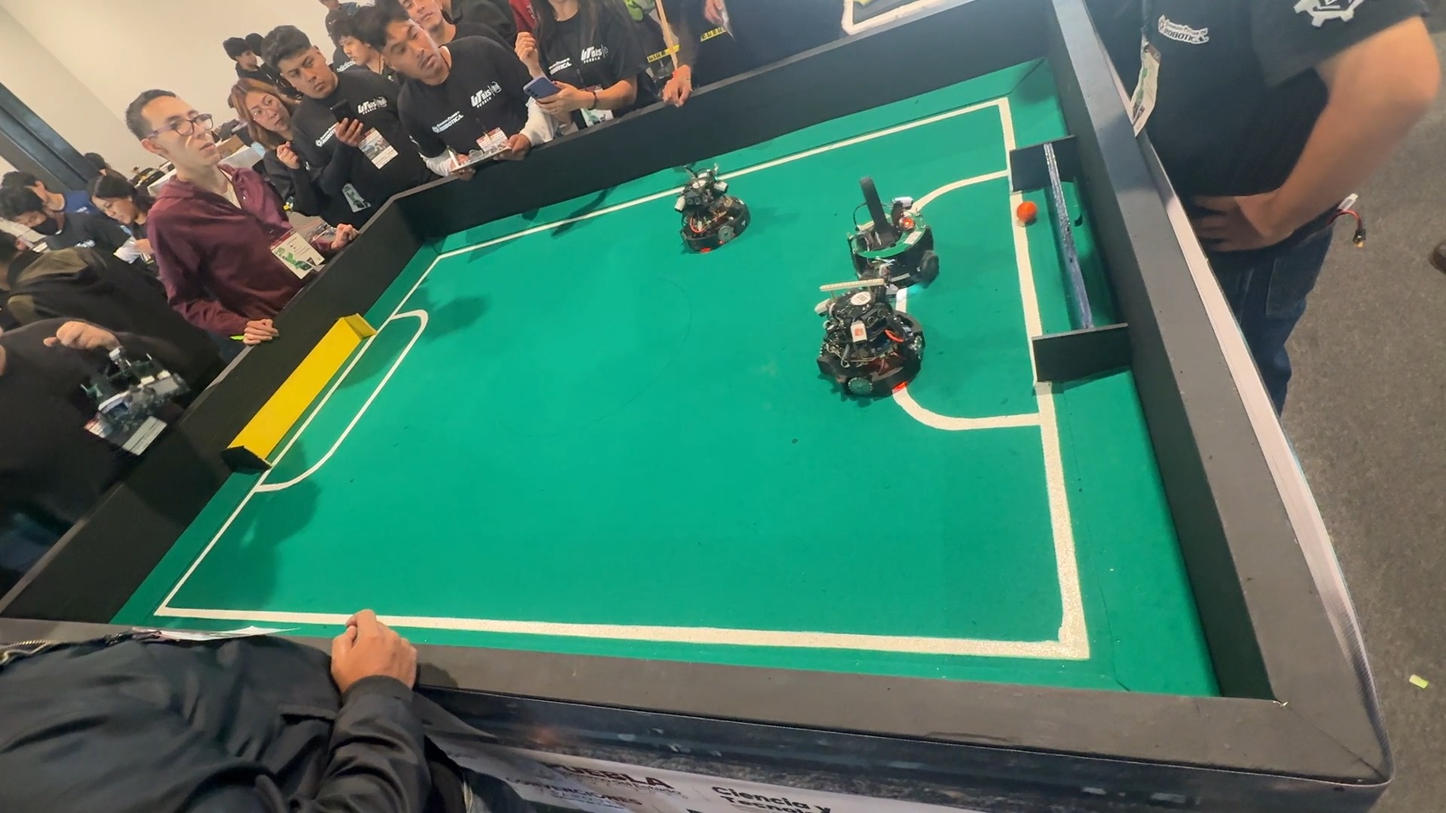Robot: (807, 270, 925, 399), (839, 181, 955, 288), (654, 153, 756, 268)
pelota: (1014, 203, 1033, 225)
